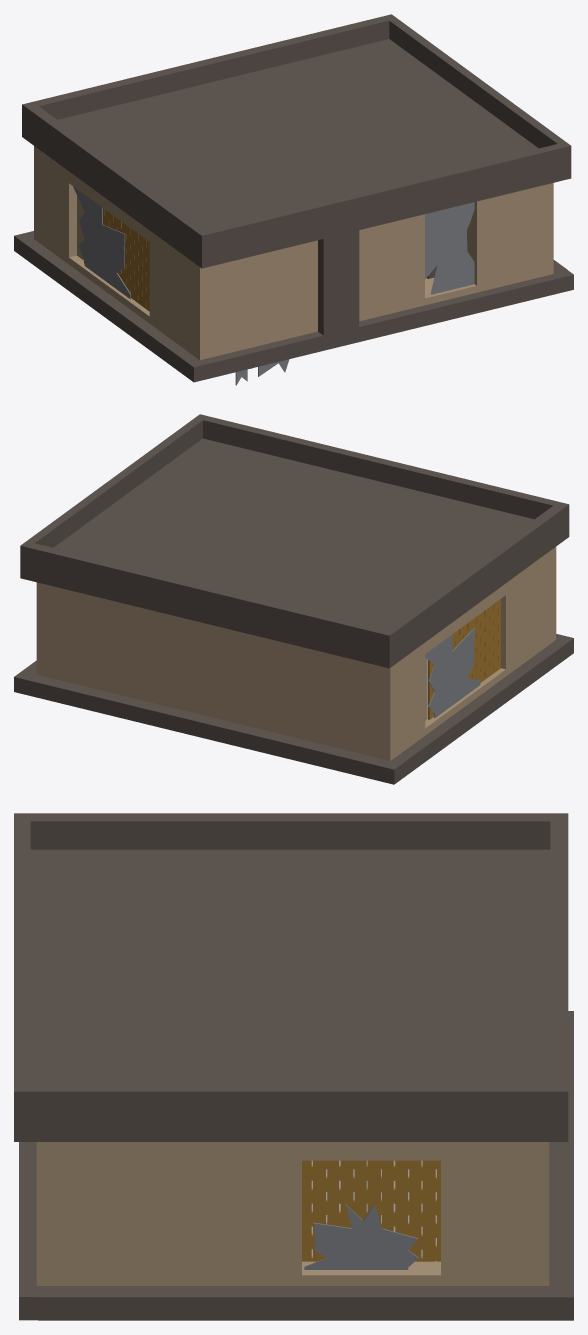
File: 3LvBuilding.fbx
The picture shows the model from 3 angles, top to bottom: view 1: azimuth 30°, elevation 25°; view 2: azimuth 150°, elevation 25°; view 3: azimuth 270°, elevation 25°; orthographic projection. The views are drawn at different scales.
Visible parts, largest first — view 1: Cube.017, Cube.015, Cube.016; view 2: Cube.017, Cube.015, Cube.016; view 3: Cube.017, Cube.015, Cube.016.
Part boxes in pixels (x1,y1,x2,y2): Cube.017: [14, 14, 573, 382]; Cube.015: [77, 196, 437, 310]; Cube.016: [84, 208, 434, 385]; Cube.017: [14, 414, 573, 784]; Cube.015: [425, 601, 500, 719]; Cube.016: [425, 599, 500, 720]; Cube.017: [14, 813, 573, 1320]; Cube.015: [302, 1160, 440, 1260]; Cube.016: [302, 1160, 440, 1261].
Size of the model in its own units: 5166 by 2252 by 4270.
